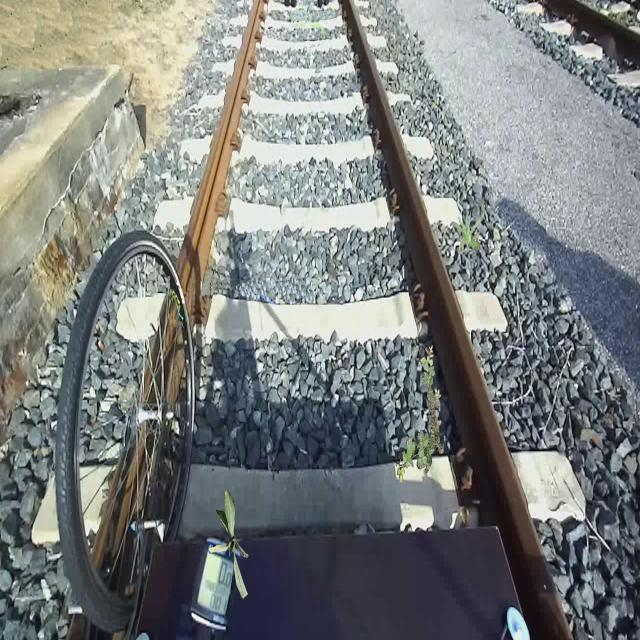Plant: (396, 345, 444, 483), (209, 489, 249, 599), (450, 208, 482, 254)
